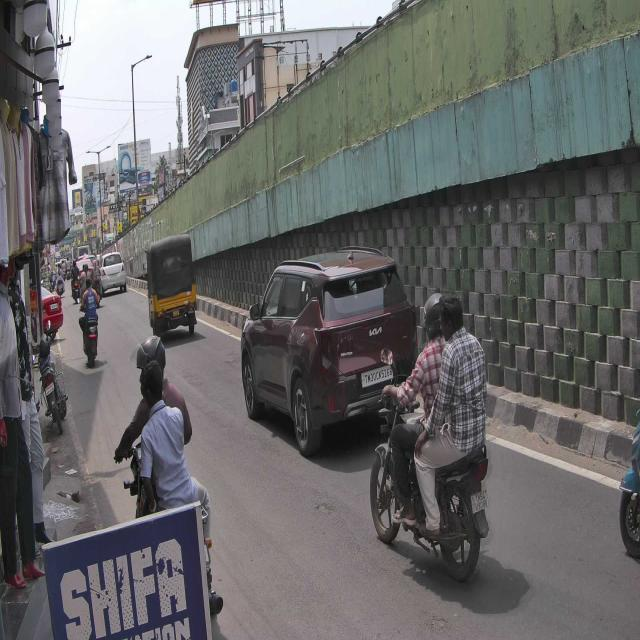double_rider: (370, 289, 490, 581)
